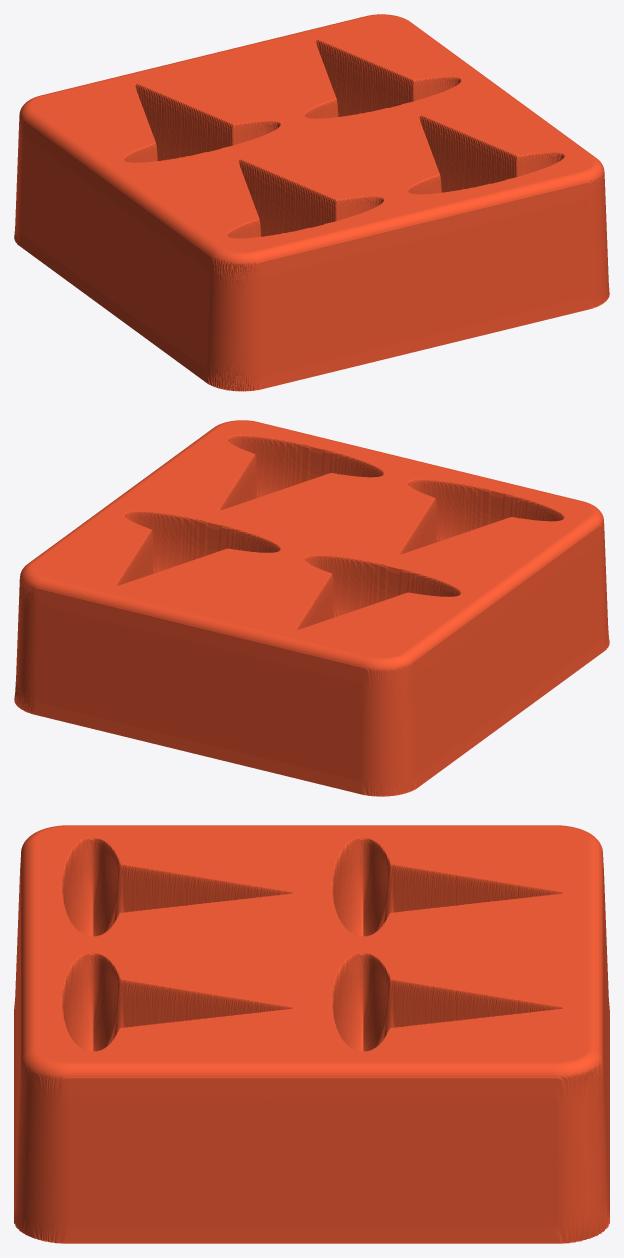
File: mold.glb
The picture shows the model from 3 angles, top to bottom: view 1: azimuth 30°, elevation 25°; view 2: azimuth 150°, elevation 25°; view 3: azimuth 270°, elevation 25°; orthographic projection. The views are drawn at different scales.
Parts seen in each view (by area): view 1: geometry_0; view 2: geometry_0; view 3: geometry_0.
Boxes of the visible parts, x1,y1,x2,y2 form: geometry_0: [14, 14, 609, 391]; geometry_0: [14, 420, 609, 796]; geometry_0: [14, 825, 609, 1243].
Bounding box in the file's own units: 0.0992 × 0.0314 × 0.0984.
